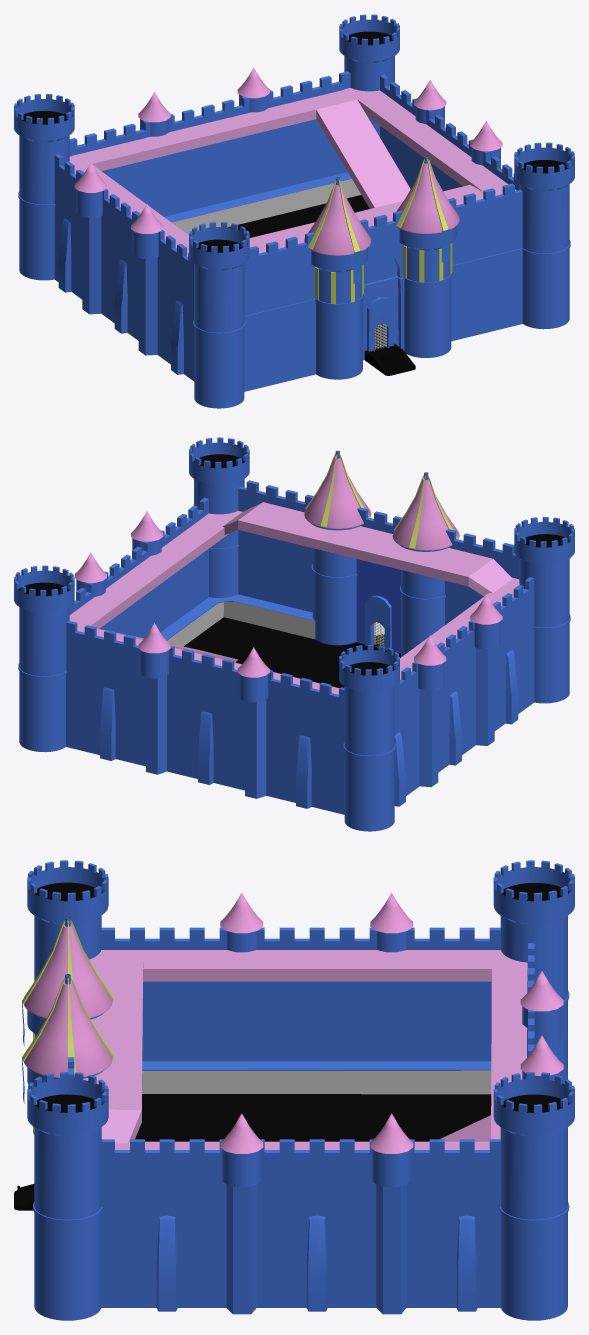
Rendered from DarkDastleGreen.fbx.
3 renders of one model, top to bottom at view 1: azimuth 30°, elevation 25°; view 2: azimuth 150°, elevation 25°; view 3: azimuth 270°, elevation 25°, orthographic. The views are drawn at different scales.
Parts seen in each view (by area): view 1: Castle_Catle, Cube.004, Cube.001, Floor, CacheMisereFloor, Cube.003, Cube.002; view 2: Castle_Catle, Cube.003, Floor, Cube.001, CacheMisereFloor, CacheMiserePorte, Cube.002, Cube.004; view 3: Castle_Catle, Floor, Cube.002, CacheMisereFloor, Cube.003, Cube.004, Cube.001.
Part boxes in pixels (x1,y1,x2,y2): Castle_Catle: [14, 14, 574, 408]; Cube.004: [75, 89, 410, 208]; Cube.001: [343, 88, 516, 195]; Floor: [22, 31, 568, 348]; CacheMisereFloor: [172, 179, 361, 234]; Cube.003: [249, 185, 483, 253]; Cube.002: [69, 155, 188, 256]; Castle_Catle: [14, 437, 574, 831]; Cube.003: [223, 502, 512, 596]; Floor: [18, 454, 570, 688]; Cube.001: [69, 511, 242, 631]; CacheMisereFloor: [167, 601, 315, 646]; CacheMiserePorte: [356, 559, 400, 652]; Cube.002: [400, 577, 523, 679]; Cube.004: [82, 628, 339, 694]; Castle_Catle: [14, 860, 574, 1320]; Floor: [34, 882, 569, 1141]; Cube.002: [89, 950, 527, 981]; CacheMisereFloor: [142, 1070, 491, 1094]; Cube.003: [83, 959, 143, 1143]; Cube.004: [440, 967, 527, 1141]; Cube.001: [115, 1141, 489, 1149].
Size of the model in its own units: 5415 by 2648 by 5220.
